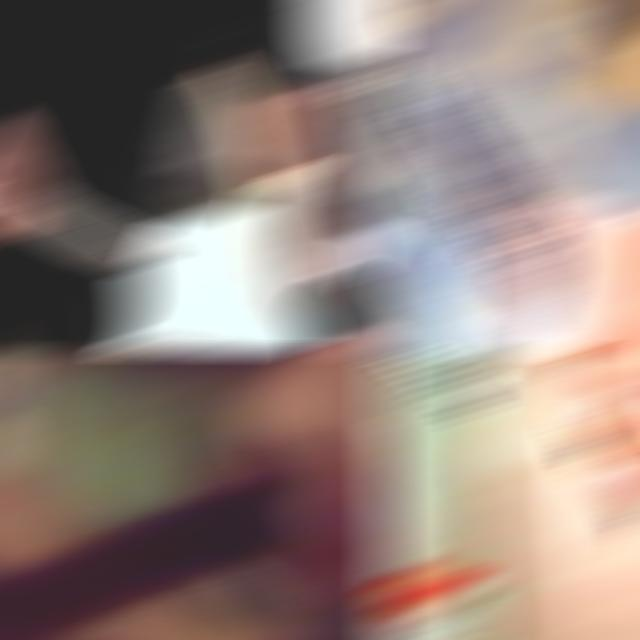Knife: (12, 186, 172, 268)
Knife_Handle: (0, 356, 395, 636), (373, 4, 640, 348), (373, 356, 640, 636), (0, 121, 172, 269)
